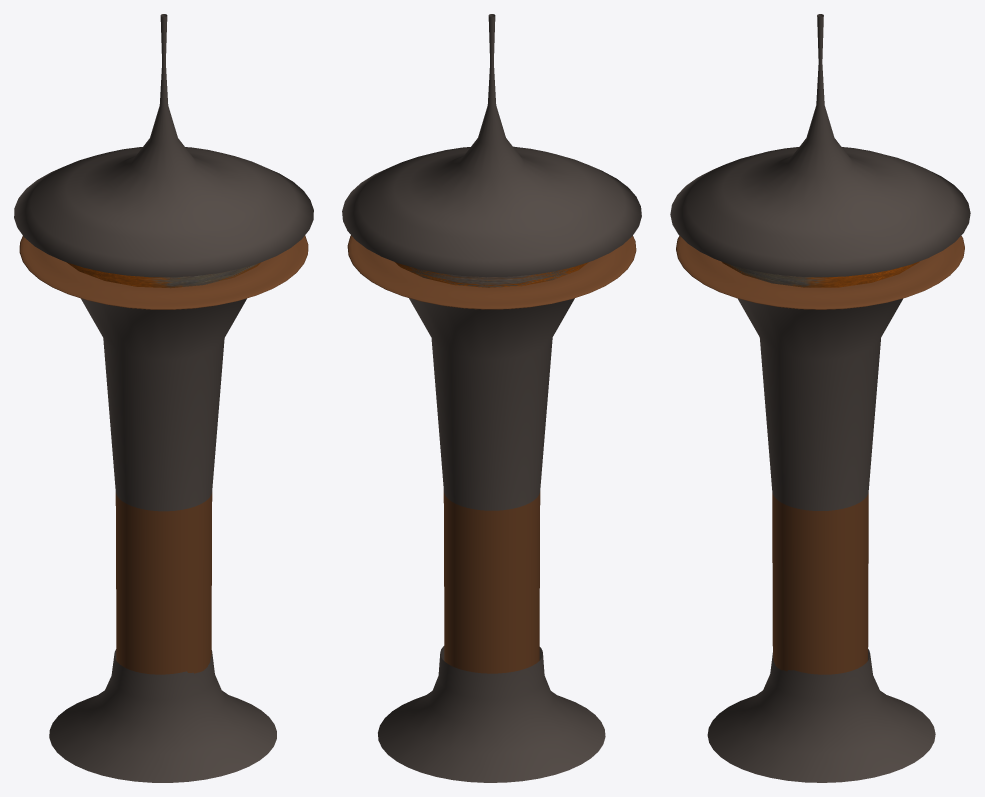
File: strażnica.FBX
3 views of the same model, side by side, from view 1: azimuth 30°, elevation 25°; view 2: azimuth 150°, elevation 25°; view 3: azimuth 270°, elevation 25° (orthographic).
Visible parts, largest first — view 1: Object002, czescPom, miejsce; view 2: Object002, czescPom, miejsce; view 3: Object002, czescPom, miejsce.
Part boxes in pixels (x1,y1,x2,y2): Object002: [14, 14, 313, 782]; czescPom: [115, 492, 212, 674]; miejsce: [19, 235, 308, 309]; Object002: [342, 14, 641, 782]; czescPom: [443, 490, 540, 673]; miejsce: [347, 235, 636, 309]; Object002: [670, 14, 970, 782]; czescPom: [772, 492, 868, 674]; miejsce: [676, 235, 964, 309].
Size of the model in its own units: 21.04 by 21.04 by 55.62.
2 materials, 2 textured.
